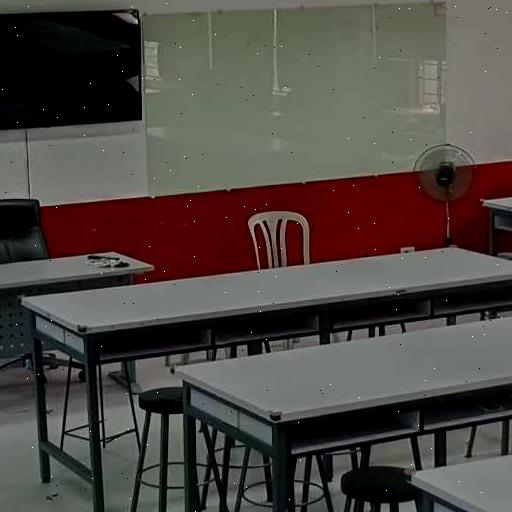Fan: (405, 142, 482, 206)
